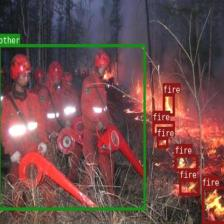fire: (201, 185, 224, 222), (174, 154, 198, 170), (179, 178, 199, 195), (152, 121, 174, 135), (162, 93, 174, 116), (156, 136, 168, 148)
